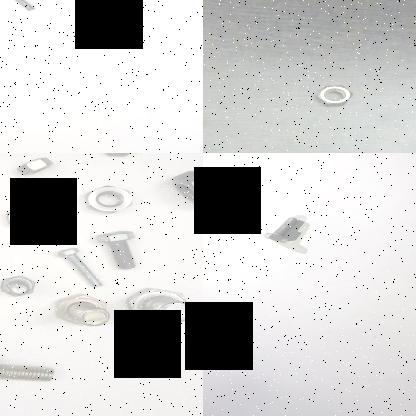Bolts: (124, 277, 200, 329), (0, 351, 63, 393), (48, 292, 112, 330), (90, 230, 148, 271), (55, 247, 105, 289), (258, 213, 304, 251), (0, 271, 47, 301), (0, 0, 37, 13)
NUTS: (76, 184, 142, 216), (164, 167, 203, 209), (0, 204, 53, 230), (310, 84, 358, 108), (9, 156, 57, 178), (89, 153, 143, 161)
